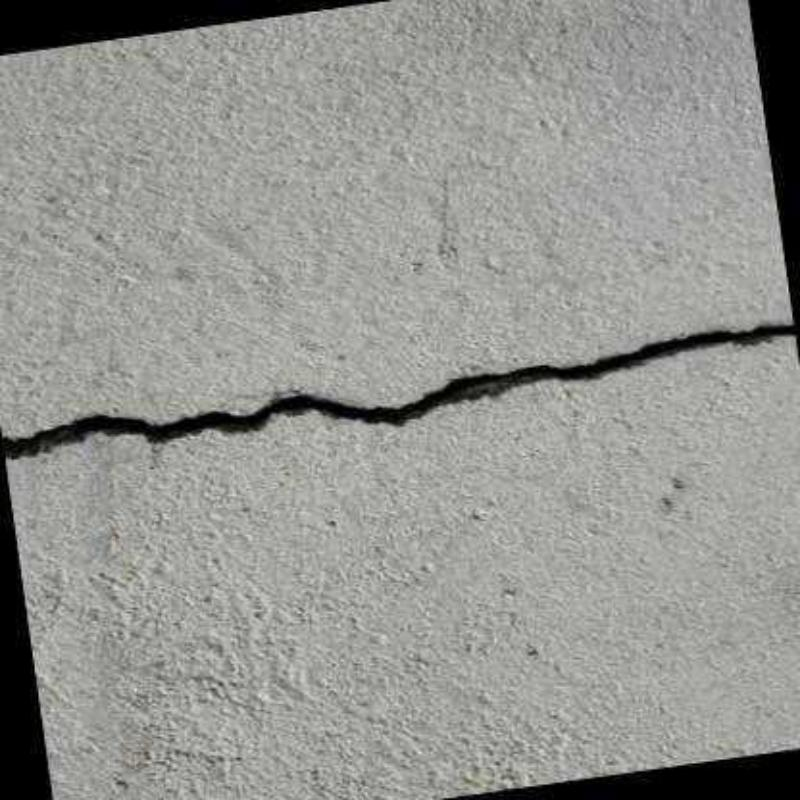pothole: (0, 322, 794, 464)
